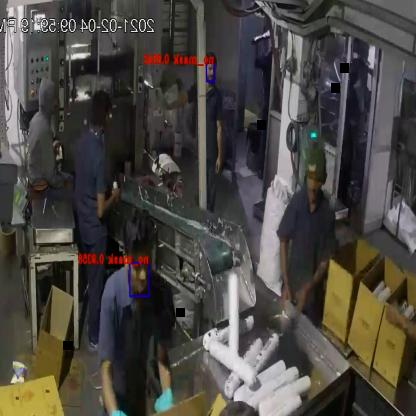no_glove: (294, 240, 336, 321), (273, 228, 302, 311), (384, 296, 416, 356), (155, 79, 194, 119), (93, 186, 123, 228), (211, 113, 225, 177)
